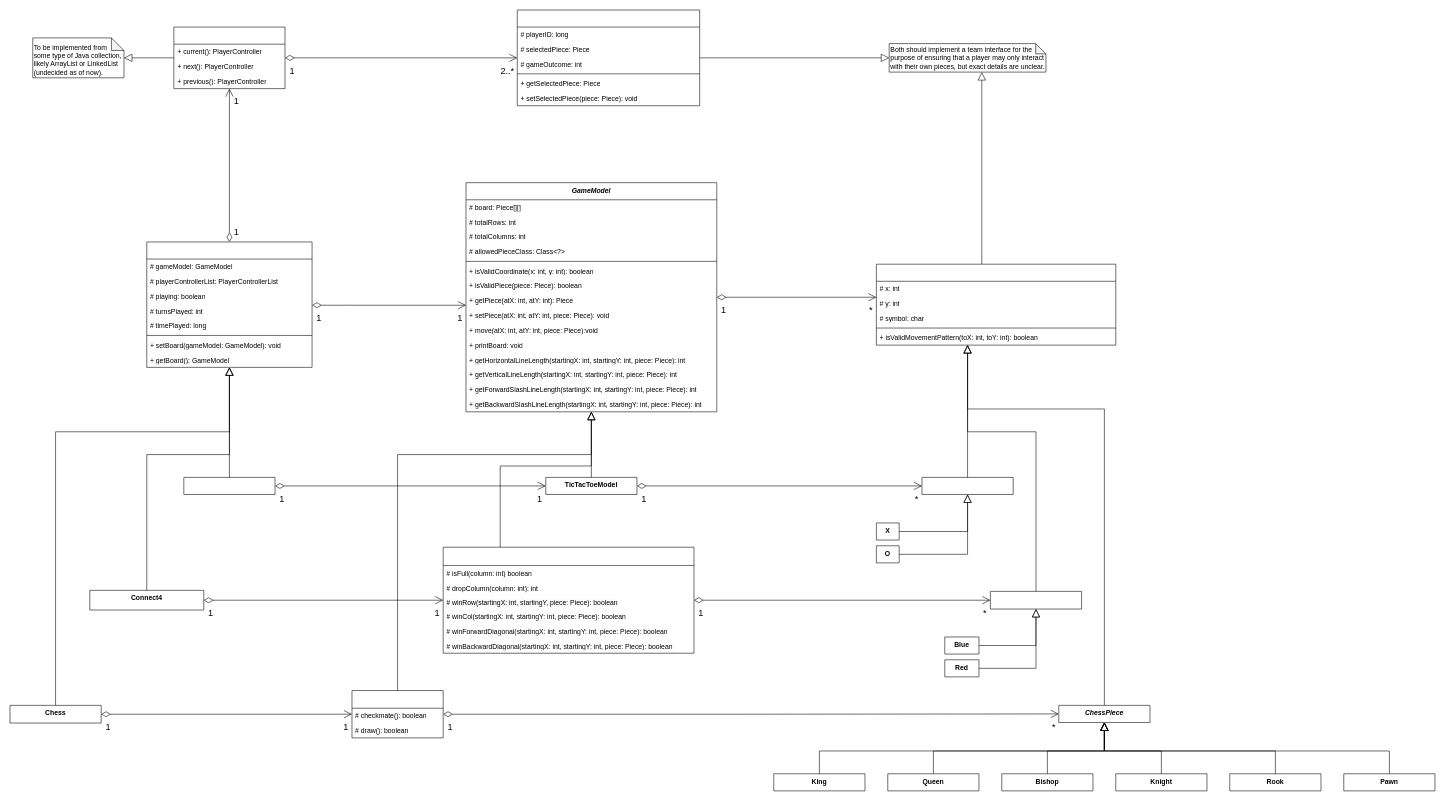
The diagram is 1445 pixels wide and 801 high, and some of its shapes have lost their labels. The shapes that lost their labels are listed below. From the top down, each one's box as (x1, y1, x2, y2) in pixels, then its label:
(173, 27, 285, 89): PlayerControllerList
(517, 9, 700, 106): PlayerController
(146, 241, 312, 367): GameController
(876, 264, 1116, 345): Piece
(183, 477, 275, 494): TicTacToe
(921, 477, 1013, 494): TicTacToePiece
(443, 547, 694, 653): Connect4Model
(990, 591, 1082, 609): Connect4Piece
(351, 690, 443, 738): ChessModel
